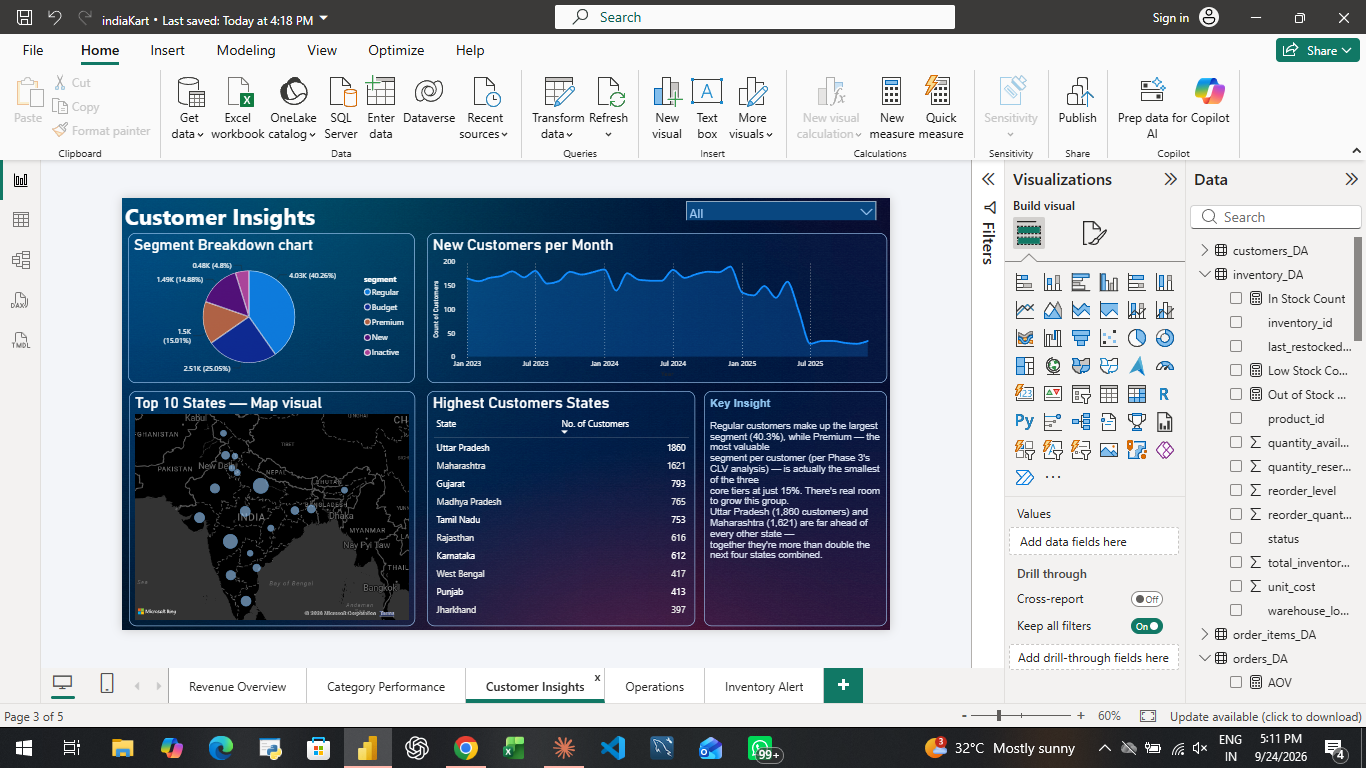

This screenshot's page, from the dashboard's own definition file:
{"tool":"powerbi","page":{"name":"Customer Insights","canvas":[1280,720],"ordinal":2},"visuals":[{"type":"textbox","box":[0,0,533.3,70],"z":0},{"type":"pieChart","title":"Segment Breakdown chart","fields":{"Category":["customers_DA.segment"],"Y":["CountNonNull(customers_DA.customer_id)"]},"box":[10,58.3,478.3,250],"z":1000},{"type":"tableEx","title":"Highest Customers States","fields":{"Values":["customers_DA.state","customers_DA.customer_id"]},"box":[508.3,321.7,446.7,391.7],"z":2000},{"type":"textbox","box":[970,321.7,305,391.7],"z":3000},{"type":"map","title":"Top 10 States — Map visual","fields":{"Category":["orders_DA.state"],"Size":["CountNonNull(orders_DA.order_id)"]},"box":[11.7,321.7,476.7,391.7],"z":4000},{"type":"slicer","fields":{"Values":["customers_DA.segment"]},"box":[935,0,326.7,36.7],"z":5000},{"type":"lineChart","title":"New Customers per Month","fields":{"Y":["CountNonNull(customers_DA.customer_id)"],"Category":["customers_DA.registration_date.Variation.Date Hierarchy.Year","customers_DA.registration_date.Variation.Date Hierarchy.Month"]},"box":[508.3,58.3,766.7,250],"z":6000}]}

Visuals, with their boxes on the page's 1280x720 design canvas (x1, y1, x2, y2). These are canvas units, not pixel positions in the 1366x768 screenshot, which may show the page scaled, cropped or inside an application window:
textbox: region(0, 0, 533, 70)
"Segment Breakdown chart" pieChart: region(10, 58, 488, 308)
"Highest Customers States" tableEx: region(508, 322, 955, 713)
textbox: region(970, 322, 1275, 713)
"Top 10 States — Map visual" map: region(12, 322, 488, 713)
slicer - customers_DA.segment: region(935, 0, 1262, 37)
"New Customers per Month" lineChart: region(508, 58, 1275, 308)
